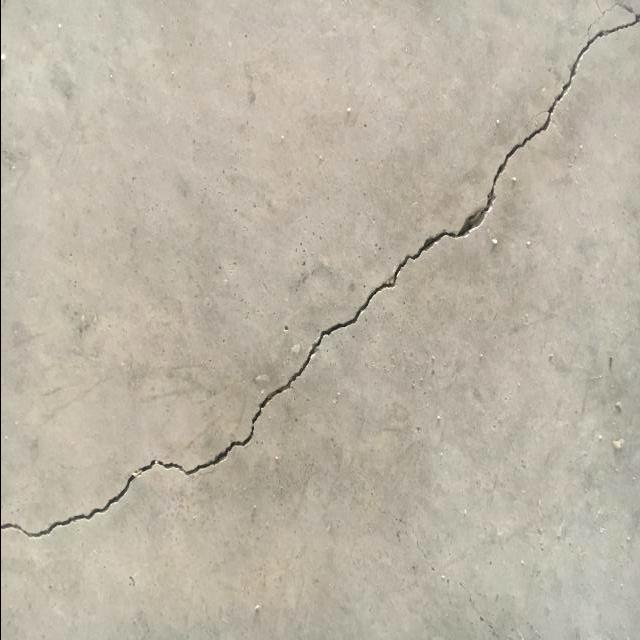SurfaceCrack: (1, 2, 639, 584)
